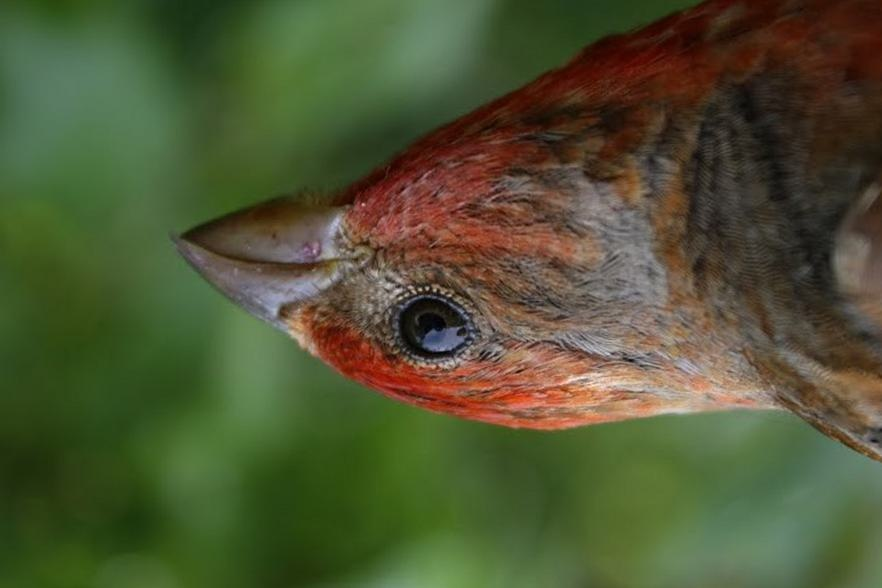rosefinch: (174, 62, 878, 452)
